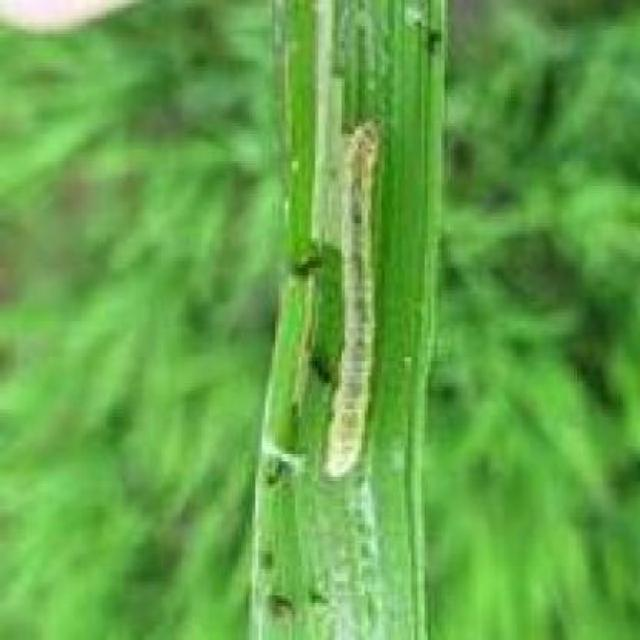leaf-folder: (318, 112, 388, 490)
